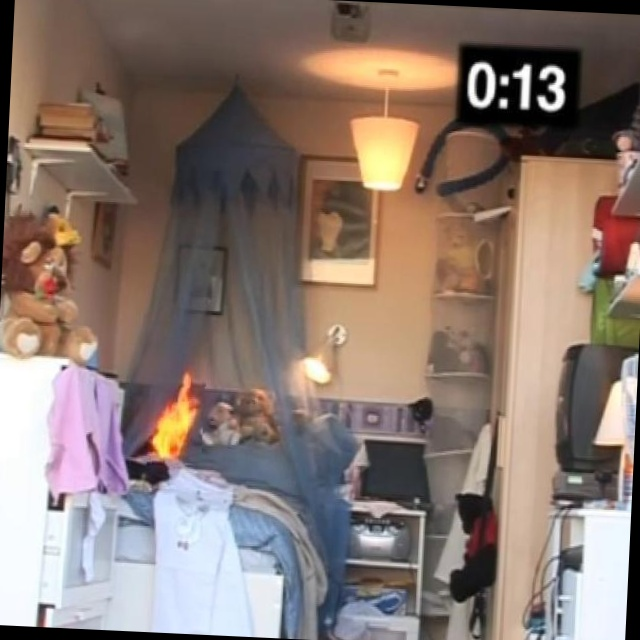fire: (125, 365, 228, 488)
